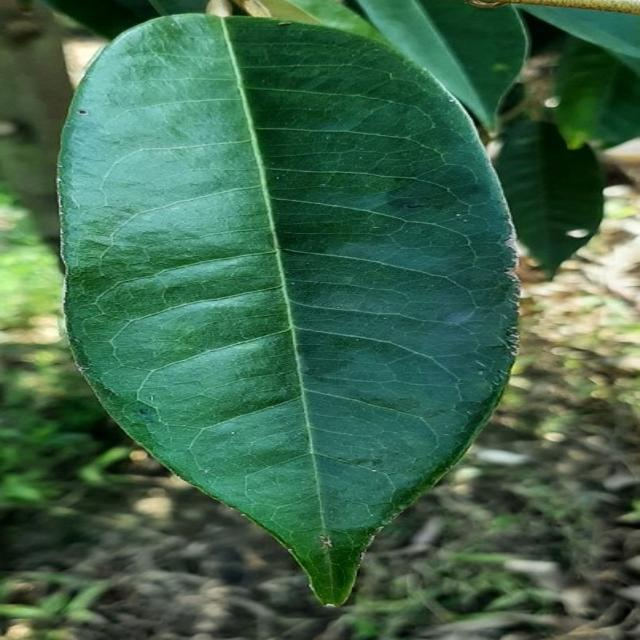No Disease: (52, 6, 536, 617)
